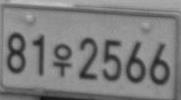1: (29, 33, 50, 76)
2: (78, 36, 98, 80)
5: (101, 39, 122, 81)
6: (148, 43, 171, 85), (125, 40, 147, 83)
8: (6, 31, 26, 74)
우: (53, 42, 72, 77)
